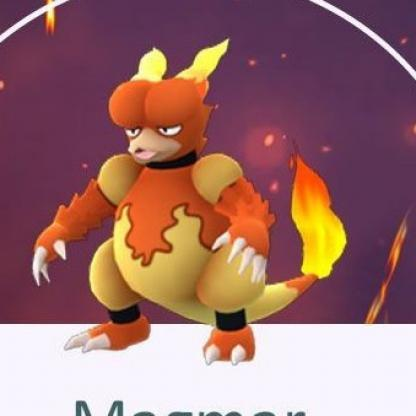Magmar: (1, 20, 416, 415)
